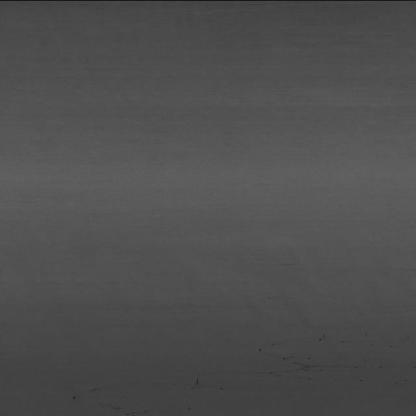inclusion: (57, 391, 163, 415), (269, 354, 345, 380), (191, 372, 205, 392), (310, 335, 326, 344), (251, 344, 264, 352), (335, 338, 349, 344)
